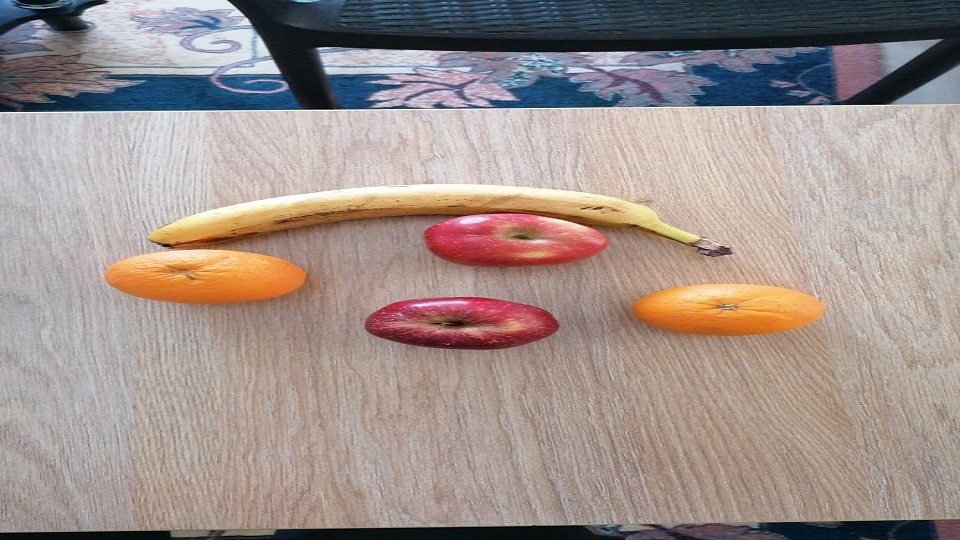elma: (365, 296, 560, 352), (421, 212, 611, 268)
muz: (146, 183, 730, 250)
portakal: (102, 249, 307, 304), (630, 283, 826, 337)
